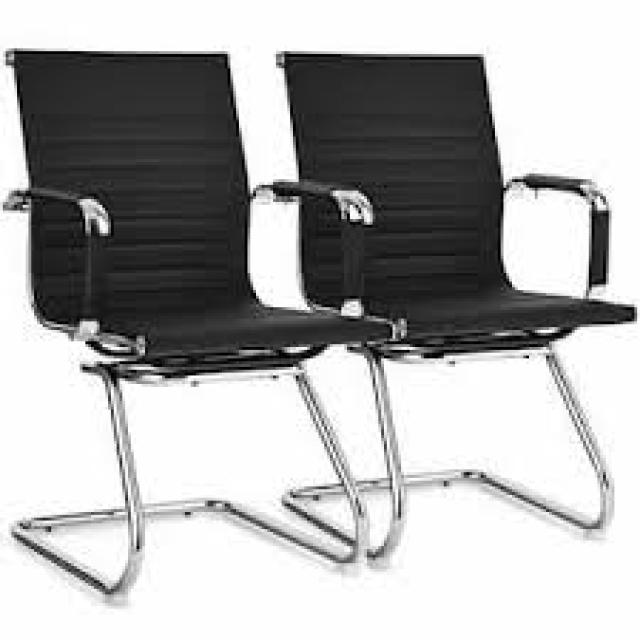chair: (191, 10, 640, 606), (0, 14, 420, 626)
